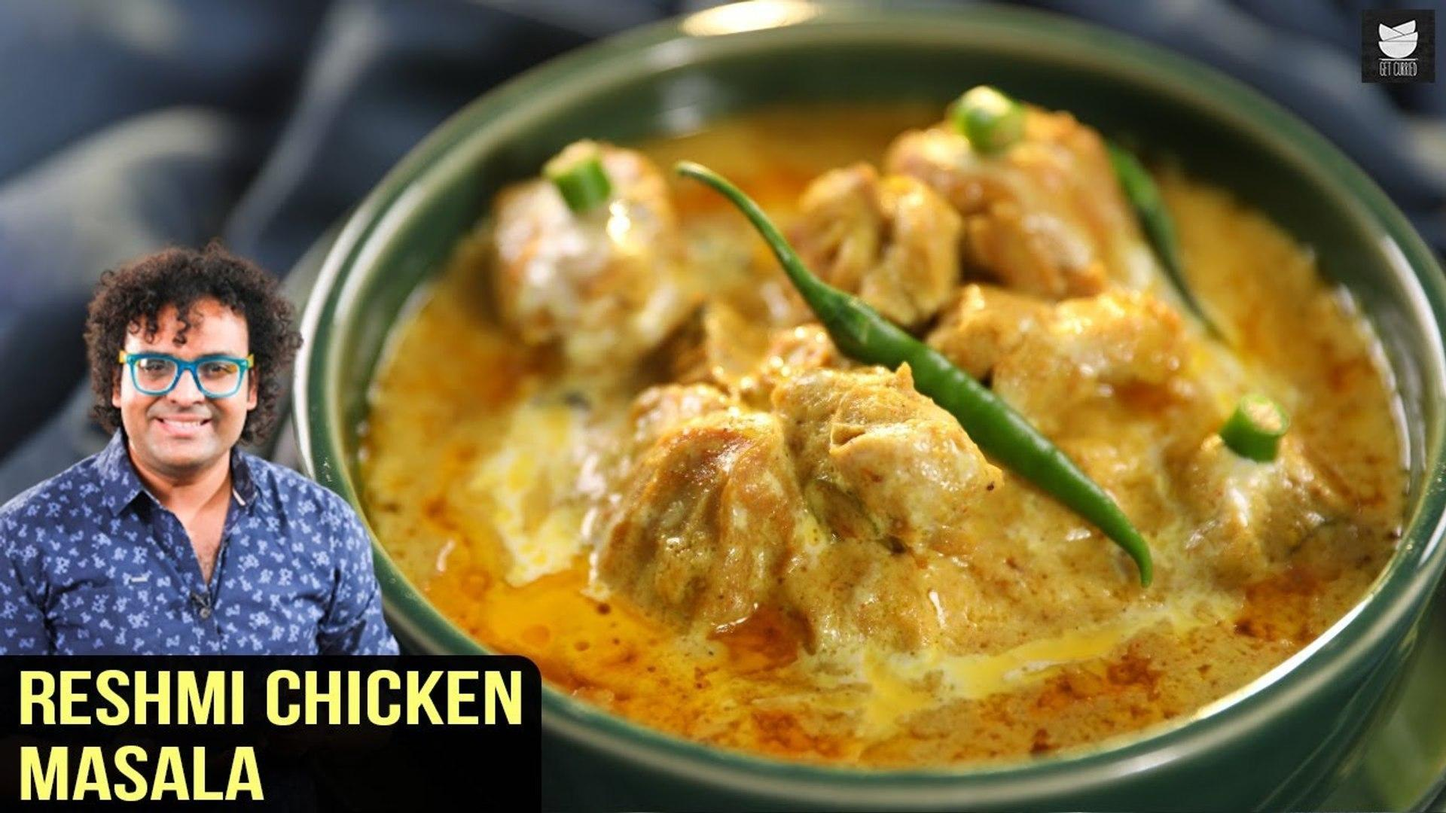chicken: (399, 79, 1393, 750)
